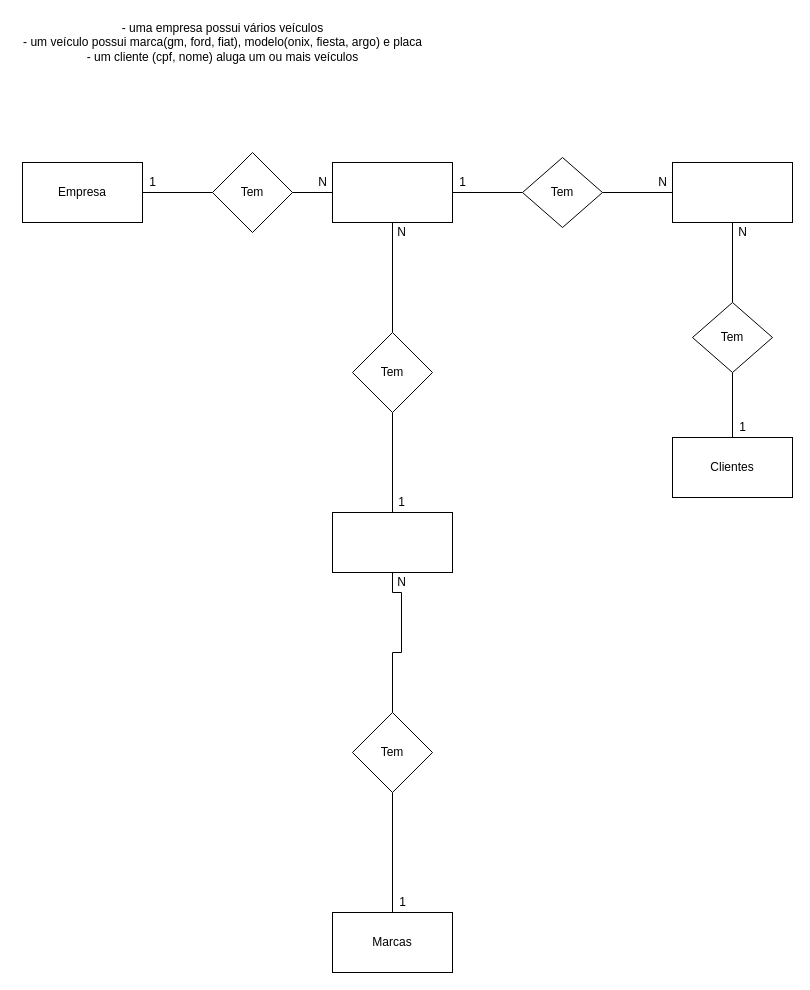
The diagram is 810 pixels wide and 990 high, and some of its shapes have lost their labels. Each missing label, with the centre of its shape:
"Aluguel" belongs at (732,192).
"Modelos" belongs at (392,542).
"Veiculos" belongs at (392,192).
